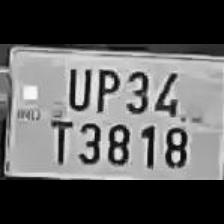1: (134, 120, 160, 168)
3: (120, 66, 150, 114), (74, 116, 102, 166)
4: (150, 66, 182, 118)
8: (159, 120, 189, 170), (103, 119, 131, 167)
P: (90, 64, 120, 112)
T: (42, 113, 72, 167)
U: (62, 62, 92, 112)
